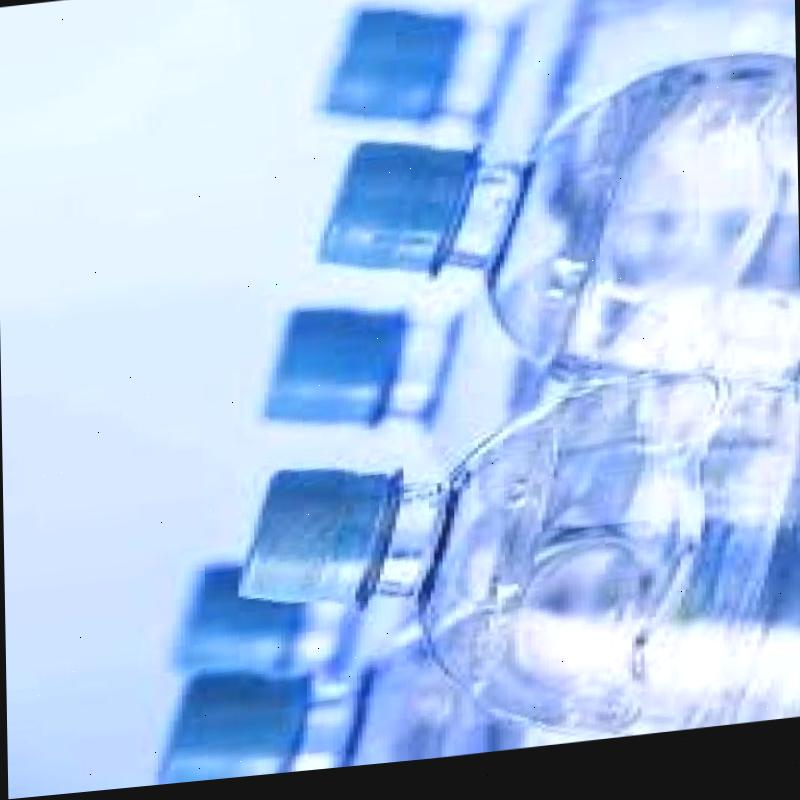botella: (233, 377, 800, 782), (315, 67, 800, 448), (313, 0, 797, 200), (258, 282, 572, 494), (150, 637, 582, 789), (164, 545, 411, 697)
